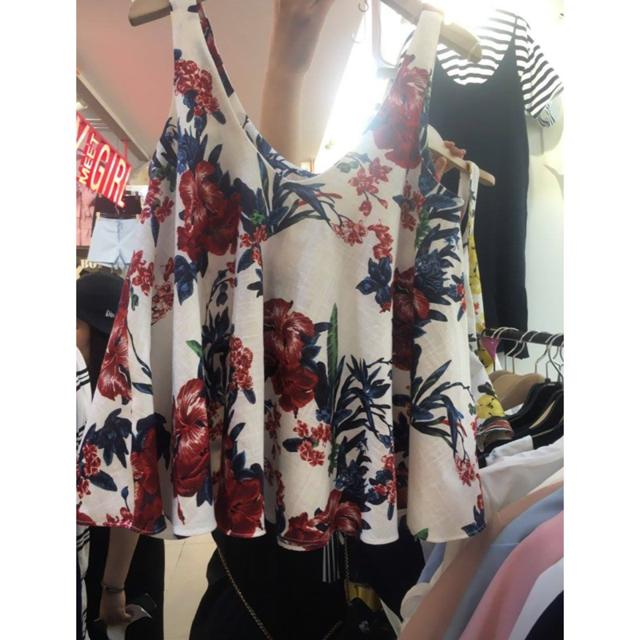Tops: (90, 3, 487, 541)
